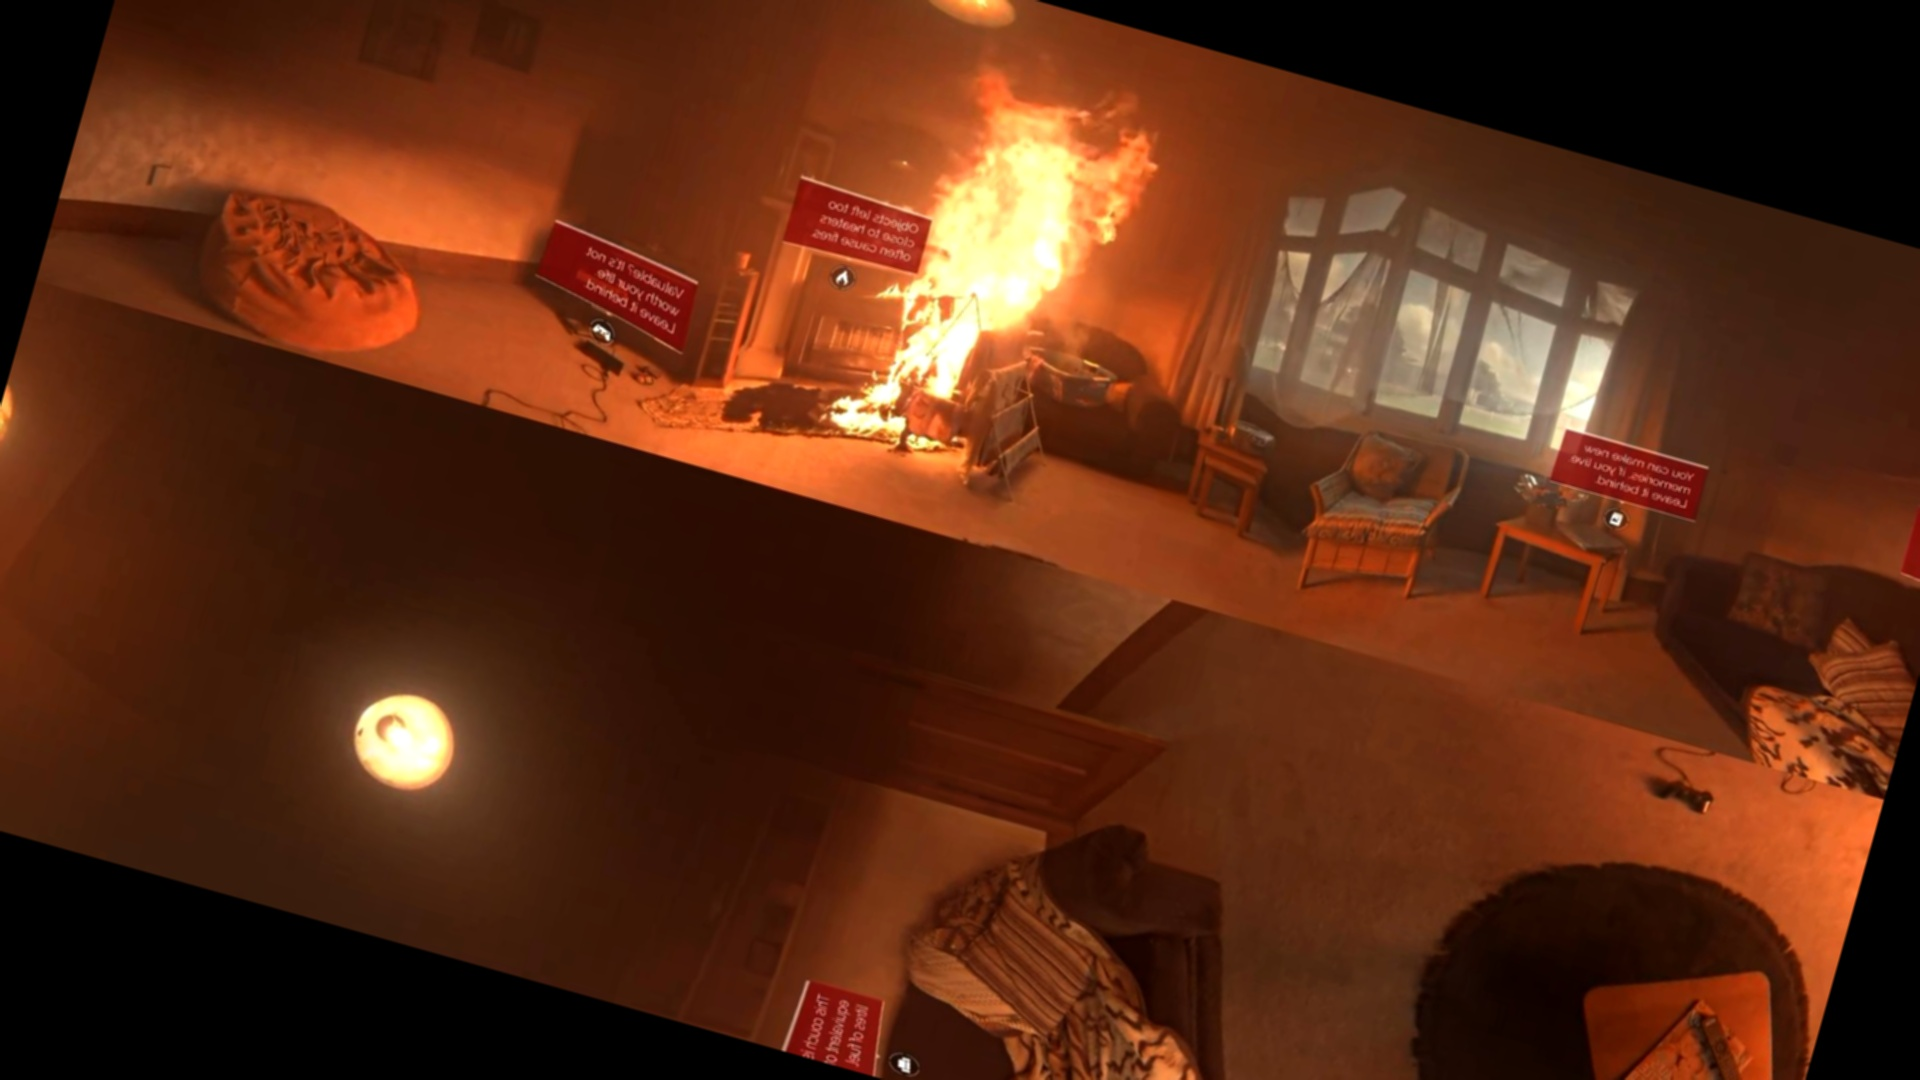fire: (833, 41, 1184, 475)
